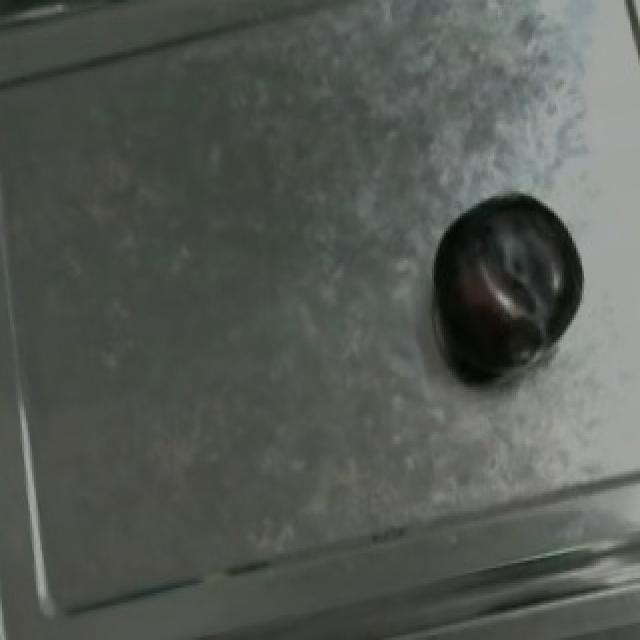Fruit: (416, 179, 602, 367)
